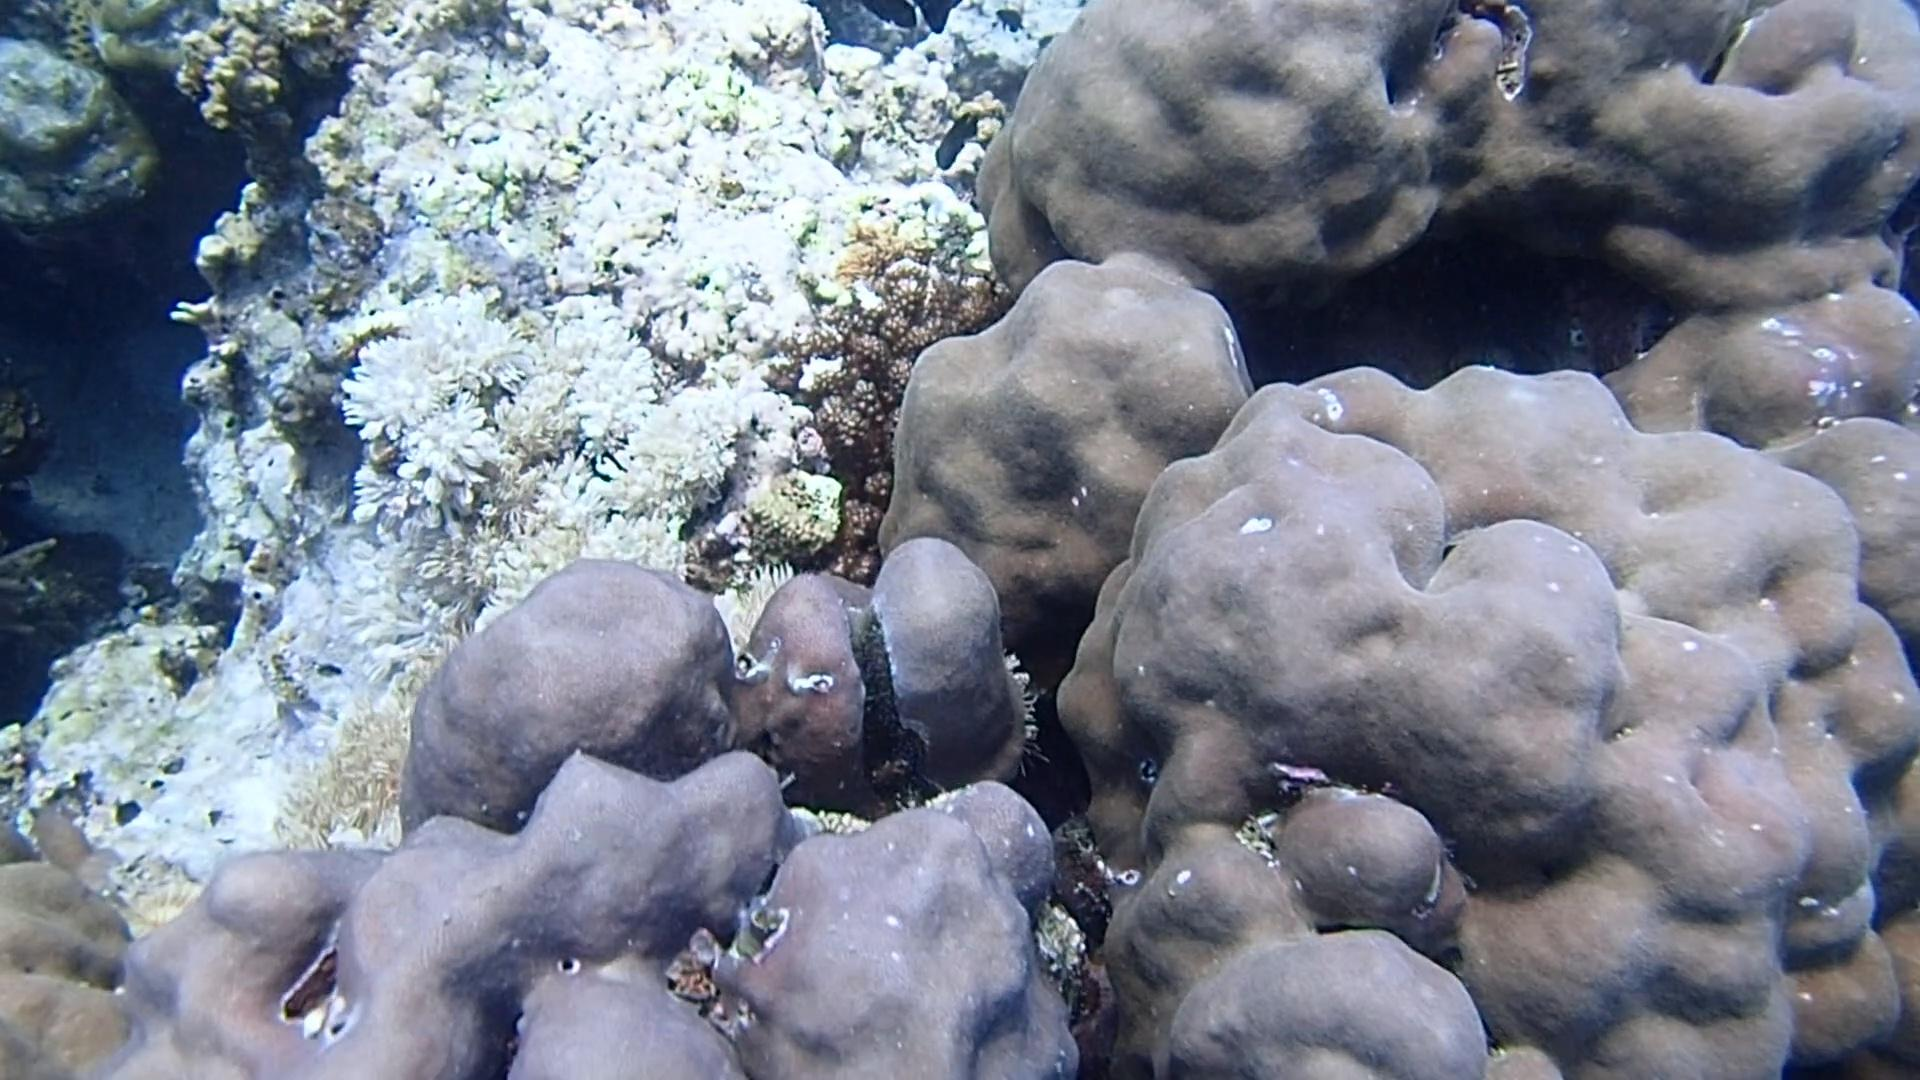Dark Fish: (926, 105, 984, 179), (993, 5, 1029, 37)
